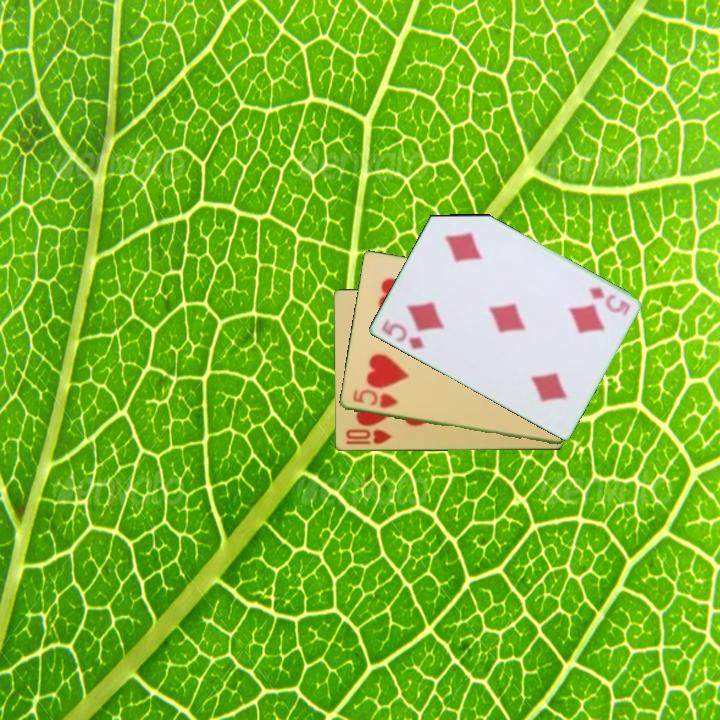10h: (342, 426, 395, 447)
5d: (378, 316, 427, 352), (584, 284, 633, 319)
5h: (349, 386, 400, 412)
